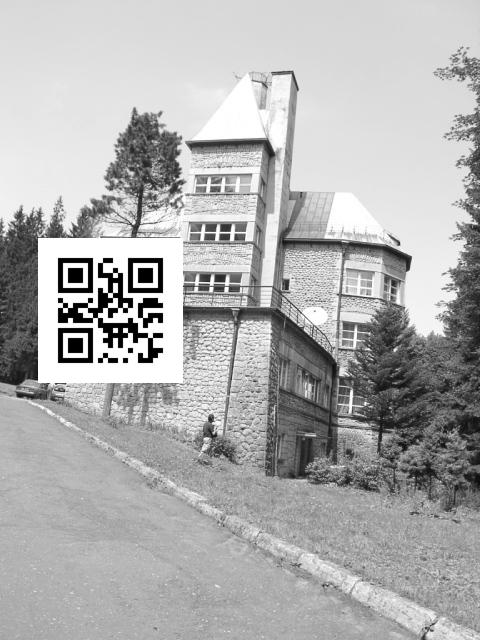qr_code: (43, 243, 177, 377)
